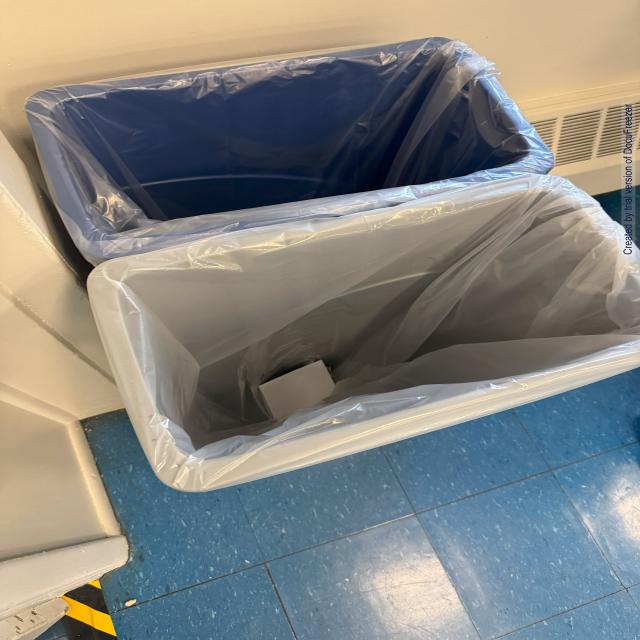Trash bin: (78, 175, 640, 494), (33, 32, 587, 268)
